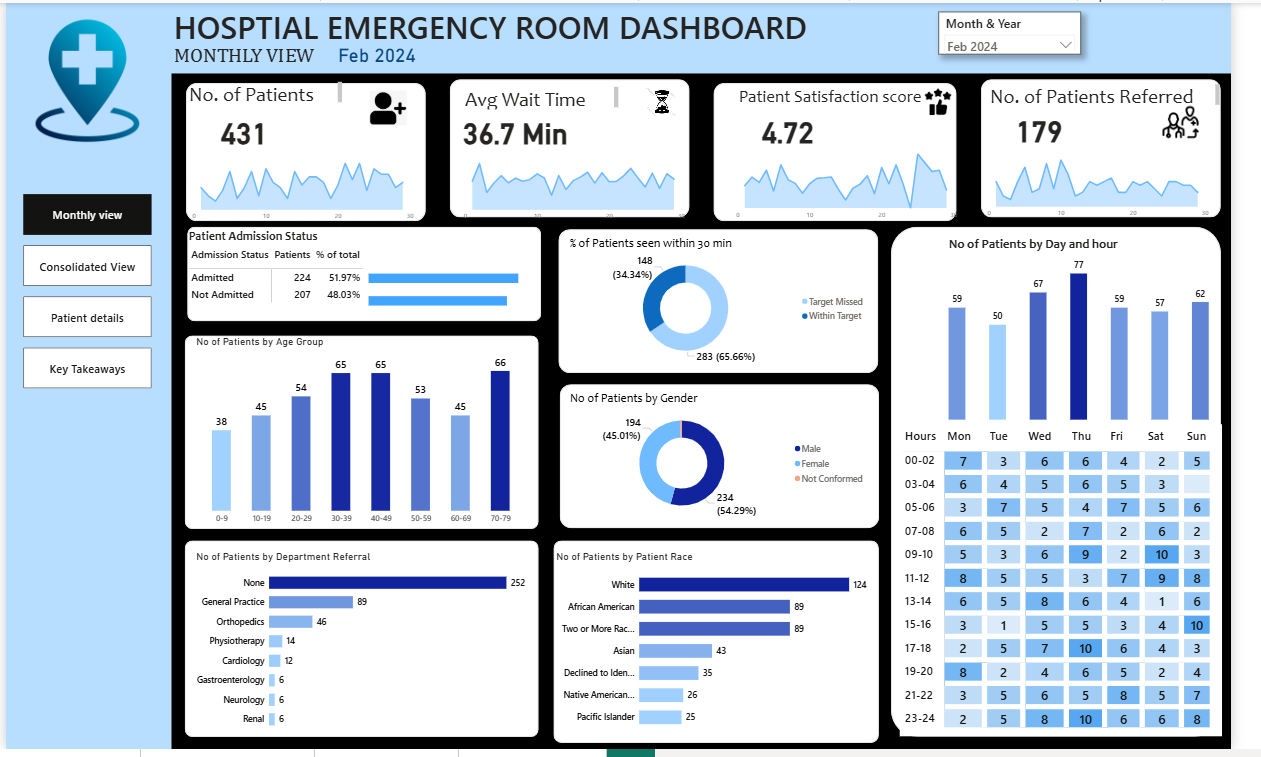

This screenshot's page, from the dashboard's own definition file:
{"tool":"powerbi","page":{"name":"Monthly view","canvas":[2300,1400],"ordinal":0},"visuals":[{"type":"shape","box":[1660.6,419.4,619.2,956.9],"z":0},{"type":"shape","box":[0,0,310,1400.5],"z":1000},{"type":"shape","box":[337,150.4,450,259.2],"z":2000},{"type":"shape","box":[308.5,0,1991,132.2],"z":3000},{"type":"textbox","box":[309.1,0,1217.4,90.4],"z":4000},{"type":"textbox","box":[310,70,296.7,53.3],"z":5000},{"type":"card","fields":{"Values":["Hospital ER_Data.No of Patients"]},"box":[337,168.5,217.8,140],"z":6000},{"type":"slicer","fields":{"Values":["Date Table.Month & Year"]},"box":[1749.9,15.6,267,80.4],"z":7000},{"type":"textbox","box":[337,142.6,298.1,51.8],"z":8000},{"type":"areaChart","fields":{"Category":["Date Table.Date.Variation.Date Hierarchy.Day"],"Y":["Hospital ER_Data.No of Patients"]},"box":[337,272.2,435.5,145.2],"z":9000},{"type":"card","fields":{"Values":["Min(Date Table.Month & Year)"]},"box":[585.9,59.6,220.4,72.6],"z":10000},{"type":"shape","box":[832.7,142.2,450,259.2],"z":11000},{"type":"card","fields":{"Values":["Hospital ER_Data.AVG wait time"]},"box":[846.8,168.1,217.8,140],"z":12000},{"type":"textbox","box":[856.8,152.2,298.1,51.8],"z":13000},{"type":"areaChart","fields":{"Category":["Date Table.Date.Variation.Date Hierarchy.Day"],"Y":["Avg(Hospital ER_Data.Patient Waittime)"]},"box":[846.8,271.8,435.5,145.2],"z":14000},{"type":"shape","box":[1328.3,150.4,456.3,259.2],"z":15000},{"type":"card","fields":{"Values":["Hospital ER_Data.Satisfaction Score"]},"box":[1359.1,166.1,217.8,140],"z":16000},{"type":"textbox","box":[1368.8,150.4,414.8,51.8],"z":17000},{"type":"areaChart","fields":{"Category":["Date Table.Date.Variation.Date Hierarchy.Day"],"Y":["Hospital ER_Data.Satisfaction Score"]},"box":[1359.1,269.8,435.5,145.2],"z":18000},{"type":"shape","box":[1830.3,142.6,450,259.2],"z":19000},{"type":"shape","box":[340.6,419.4,664.2,177.3],"z":20000},{"type":"card","fields":{"Values":["Hospital ER_Data.No.of Patient Referred"]},"box":[1829.9,164,217.8,140],"z":21000},{"type":"textbox","box":[1840.6,147.8,440.7,51.8],"z":22000},{"type":"areaChart","fields":{"Category":["Date Table.Date.Variation.Date Hierarchy.Day"],"Y":["Hospital ER_Data.No.of Patient Referred"]},"box":[1829.9,267.7,435.5,145.2],"z":23000},{"type":"pivotTable","title":"Patient Admission Status","fields":{"Rows":["Hospital ER_Data.Admission Status"],"Values":["Hospital ER_Data.No of Patients1","Hospital ER_Data.No of Patients"]},"box":[337.7,422.2,582.6,177.3],"z":24000},{"type":"barChart","fields":{"Category":["Hospital ER_Data.Admission Status"],"Y":["Hospital ER_Data.No of Patients"]},"box":[675.5,472.8,323.7,123.8],"z":25000},{"type":"shape","box":[334.9,624.8,664.2,363.1],"z":26000},{"type":"clusteredColumnChart","fields":{"Category":["Hospital ER_Data.Age Group"],"Y":["Hospital ER_Data.No of Patients"]},"box":[351.8,624.8,630.5,363.1],"z":27000},{"type":"shape","box":[334.9,1007.6,664.2,368.7],"z":28000},{"type":"clusteredBarChart","fields":{"Y":["Hospital ER_Data.No of Patients"],"Category":["Hospital ER_Data.Department Referral"]},"box":[351.8,1027.3,630.5,349],"z":29000},{"type":"shape","box":[1035.7,425,600,270],"z":30000},{"type":"donutChart","title":"% of Patients seen within 30 min","fields":{"Category":["Hospital ER_Data.Wait time status"],"Y":["Hospital ER_Data.No of Patients"]},"box":[1052.6,436.3,568.5,244.9],"z":31000},{"type":"shape","box":[1038.6,714.9,599.5,270.2],"z":32000},{"type":"donutChart","title":"No of Patients by Gender","fields":{"Y":["Hospital ER_Data.No of Patients"],"Category":["Hospital ER_Data.Patient Gender"]},"box":[1052.6,726.1,568.5,244.9],"z":33000},{"type":"shape","box":[1027.3,1007.6,610.8,380],"z":34000},{"type":"pivotTable","fields":{"Rows":["Hospital ER_Data.Waittime Interval"],"Columns":["Date Table.Day Name"],"Values":["Hospital ER_Data.No of Patients"]},"box":[1677.5,790.9,605.1,585.4],"z":35000},{"type":"clusteredBarChart","fields":{"Y":["Hospital ER_Data.No of Patients"],"Category":["Hospital ER_Data.Patient Race"]},"box":[1027.3,1027.3,593.9,349],"z":36000},{"type":"columnChart","title":"No of Patients by Day and hour","fields":{"Category":["Date Table.Day Name"],"Y":["Hospital ER_Data.No of Patients"]},"box":[1764.7,436.3,501,351.8],"z":37000},{"type":"image","box":[33.3,23.8,240.2,244.9],"z":38000},{"type":"image","box":[1719.1,142.7,59.4,85.6],"z":39000},{"type":"image","box":[1196,154.6,66.6,61.8],"z":40000},{"type":"image","box":[2144.7,176,121.3,95.1],"z":41000},{"type":"image","box":[677.7,156.9,78.5,78.5],"z":42000},{"type":"pageNavigator","box":[33.3,359,240.2,366.2],"z":43000}]}

Visuals, with their boxes in screenshot pixels (x1, y1, x2, y2), scaled from the page's 2300x1400 canvas onto the 1261x757 screenshot:
shape: x1=910, y1=227, x2=1250, y2=744
shape: x1=0, y1=0, x2=170, y2=756
shape: x1=185, y1=81, x2=431, y2=221
shape: x1=169, y1=0, x2=1260, y2=71
textbox: x1=169, y1=0, x2=837, y2=49
textbox: x1=170, y1=38, x2=333, y2=67
card - Hospital ER_Data.No of Patients: x1=185, y1=91, x2=304, y2=167
slicer - Date Table.Month & Year: x1=959, y1=8, x2=1106, y2=52
textbox: x1=185, y1=77, x2=348, y2=105
areaChart - Date Table.Date.Variation.Date Hierarchy.Day x Hospital ER_Data.No of Patients: x1=185, y1=147, x2=424, y2=226
card - Min(Date Table.Month & Year): x1=321, y1=32, x2=442, y2=71
shape: x1=457, y1=77, x2=703, y2=217
card - Hospital ER_Data.AVG wait time: x1=464, y1=91, x2=584, y2=167
textbox: x1=470, y1=82, x2=633, y2=110
areaChart - Date Table.Date.Variation.Date Hierarchy.Day x Avg(Hospital ER_Data.Patient Waittime): x1=464, y1=147, x2=703, y2=225
shape: x1=728, y1=81, x2=978, y2=221
card - Hospital ER_Data.Satisfaction Score: x1=745, y1=90, x2=865, y2=166
textbox: x1=750, y1=81, x2=978, y2=109
areaChart - Date Table.Date.Variation.Date Hierarchy.Day x Hospital ER_Data.Satisfaction Score: x1=745, y1=146, x2=984, y2=224
shape: x1=1003, y1=77, x2=1250, y2=217
shape: x1=187, y1=227, x2=551, y2=323
card - Hospital ER_Data.No.of Patient Referred: x1=1003, y1=89, x2=1123, y2=164
textbox: x1=1009, y1=80, x2=1251, y2=108
areaChart - Date Table.Date.Variation.Date Hierarchy.Day x Hospital ER_Data.No.of Patient Referred: x1=1003, y1=145, x2=1242, y2=223
"Patient Admission Status" pivotTable: x1=185, y1=228, x2=505, y2=324
barChart - Hospital ER_Data.Admission Status x Hospital ER_Data.No of Patients: x1=370, y1=256, x2=548, y2=323
shape: x1=184, y1=338, x2=548, y2=534
clusteredColumnChart - Hospital ER_Data.Age Group x Hospital ER_Data.No of Patients: x1=193, y1=338, x2=539, y2=534
shape: x1=184, y1=545, x2=548, y2=744
clusteredBarChart - Hospital ER_Data.No of Patients x Hospital ER_Data.Department Referral: x1=193, y1=555, x2=539, y2=744
shape: x1=568, y1=230, x2=897, y2=376
"% of Patients seen within 30 min" donutChart: x1=577, y1=236, x2=889, y2=368
shape: x1=569, y1=387, x2=898, y2=533
"No of Patients by Gender" donutChart: x1=577, y1=393, x2=889, y2=525
shape: x1=563, y1=545, x2=898, y2=750
pivotTable - Hospital ER_Data.Waittime Interval x Date Table.Day Name: x1=920, y1=428, x2=1251, y2=744
clusteredBarChart - Hospital ER_Data.No of Patients x Hospital ER_Data.Patient Race: x1=563, y1=555, x2=889, y2=744
"No of Patients by Day and hour" columnChart: x1=968, y1=236, x2=1242, y2=426
image: x1=18, y1=13, x2=150, y2=145
image: x1=943, y1=77, x2=975, y2=123
image: x1=656, y1=84, x2=692, y2=117
image: x1=1176, y1=95, x2=1242, y2=147
image: x1=372, y1=85, x2=415, y2=127
pageNavigator: x1=18, y1=194, x2=150, y2=392
